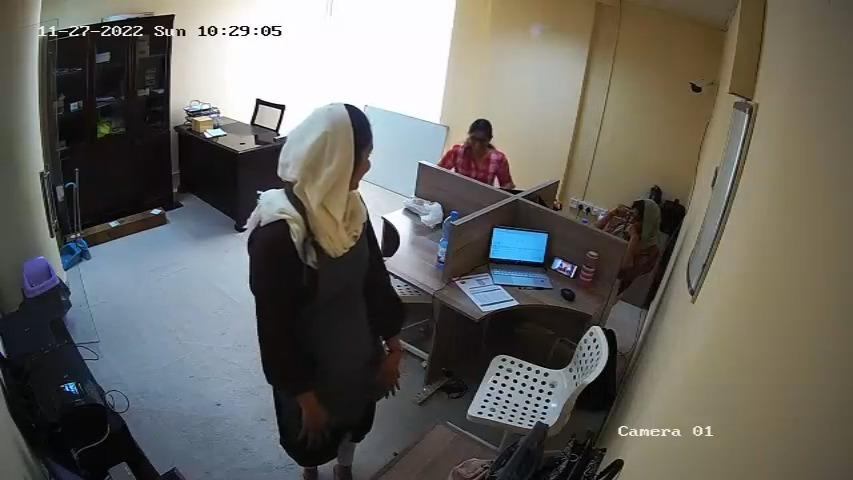apron: (289, 205, 379, 371)
